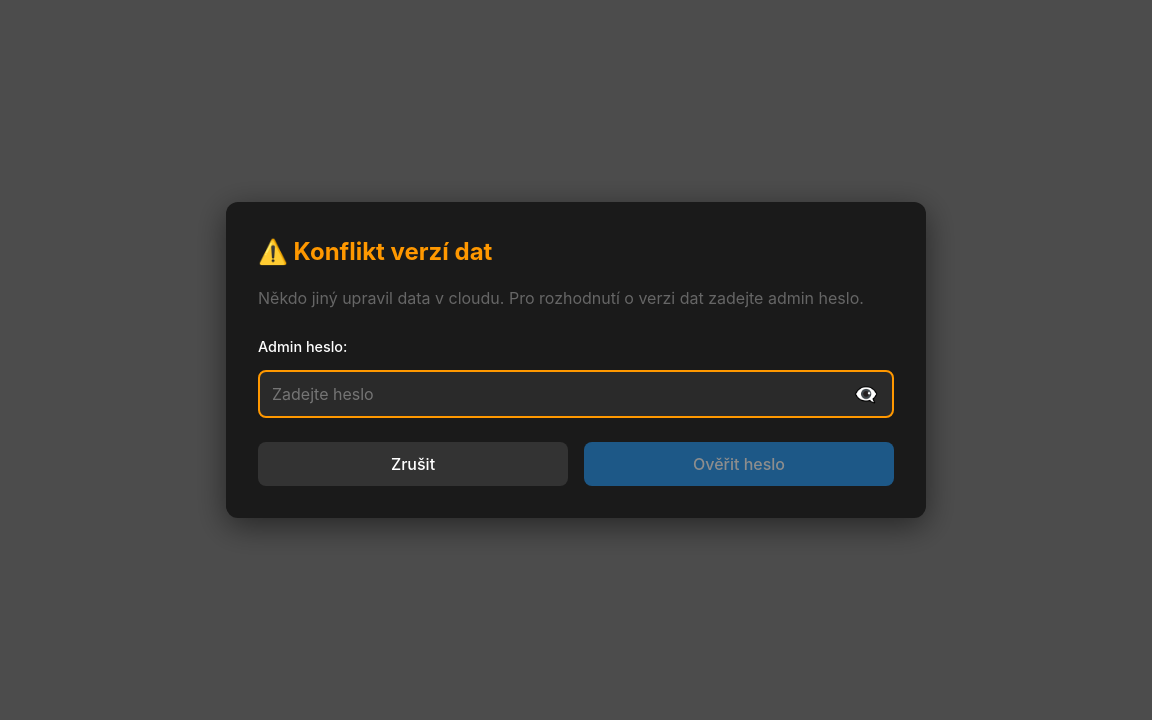
it: ConflictResolutionModal › should show error when sync code is not available
In the password field with placeholder "Zadejte heslo": (576, 394) [258,370,894,418], type "admin123"
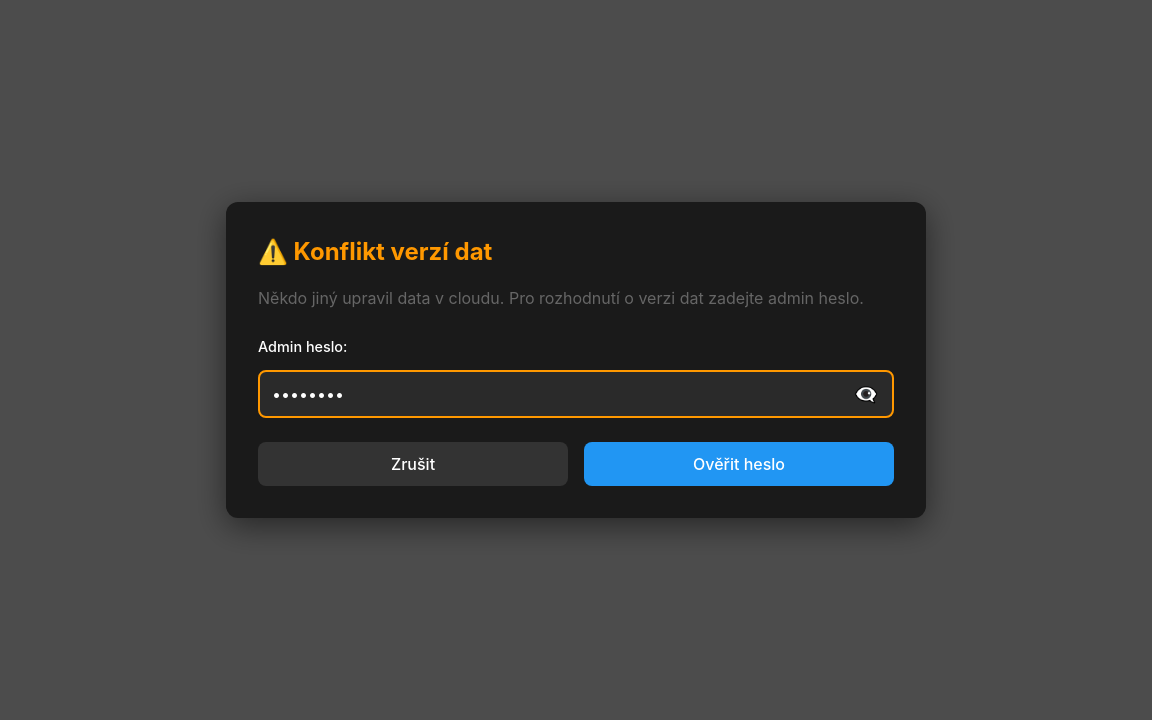
Click the button "Ověřit heslo": (739, 464) [584,442,894,486]
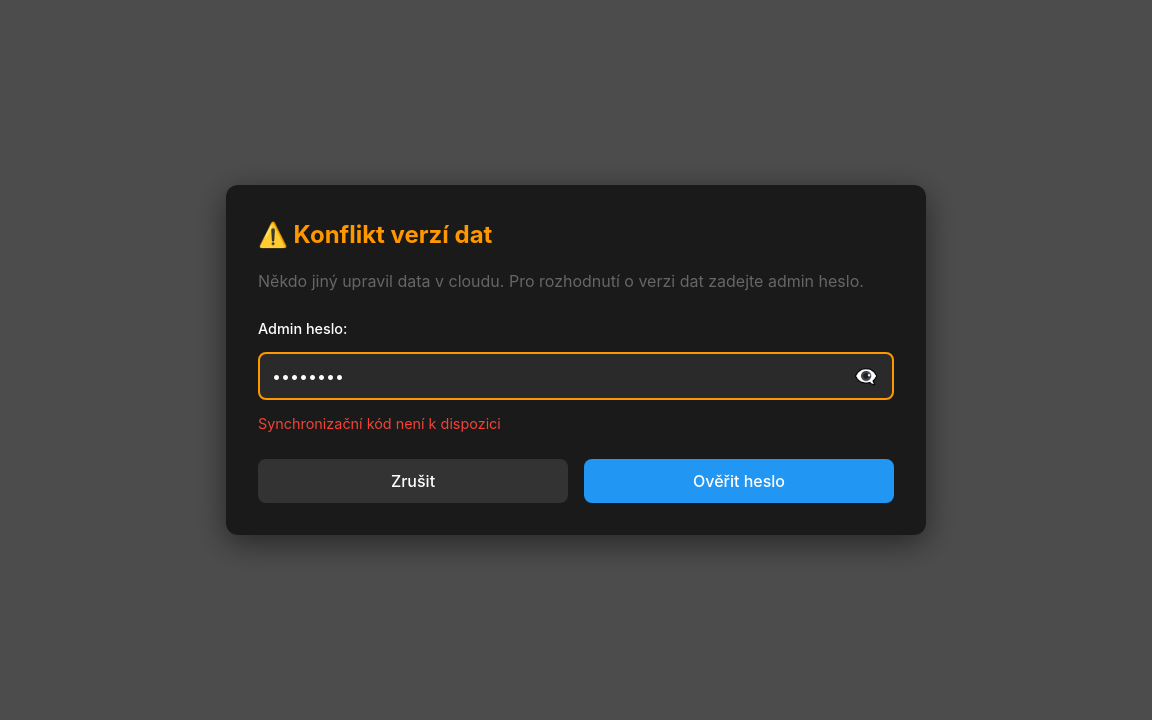
expect the text "Synchronizační kód není k dispozici" is shown: met, box [258,415,501,432]
